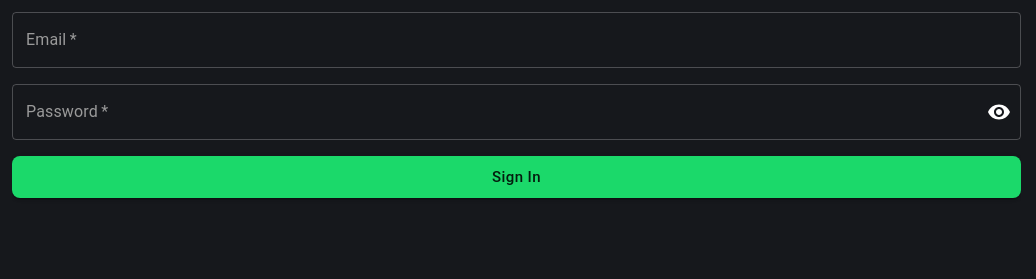
Test: LoginForm › should show error message on authentication failure
The width and height of the screenshot is (1036, 279).
Type "test@example.com" into the field labelled "Email *".
click(516, 40); type("test@example.com")  # box x1=12 y1=12 x2=1021 y2=68
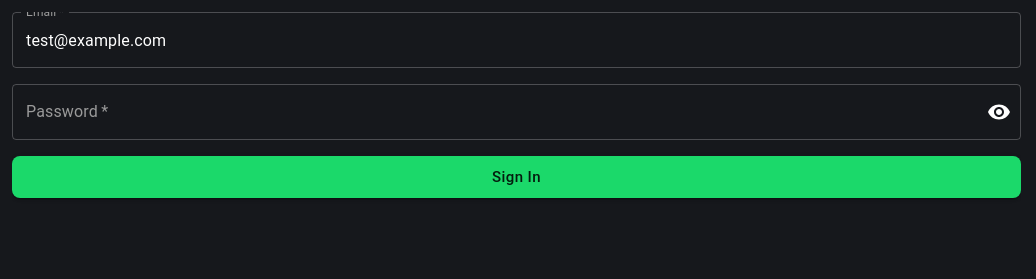
Type "wrong-password" into the password field labelled "Password *".
click(492, 112); type("wrong-password")  # box x1=12 y1=84 x2=971 y2=140
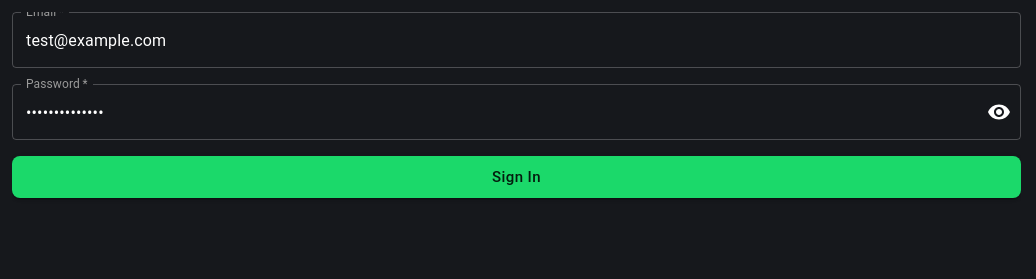
Click the button "Sign In".
click(516, 177)  # box x1=12 y1=156 x2=1021 y2=198
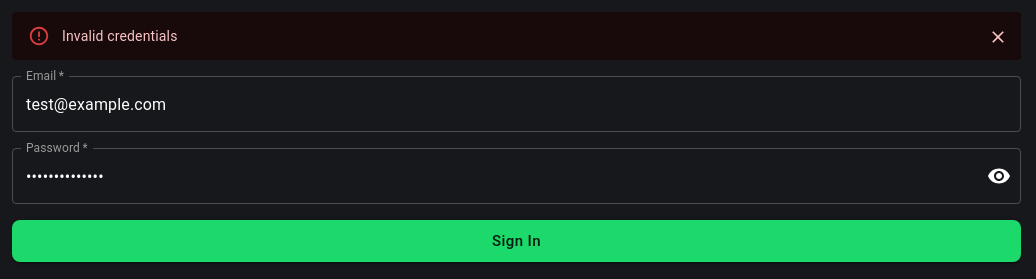
Check: the text "Invalid credentials" is shown, box x1=62 y1=28 x2=178 y2=44
